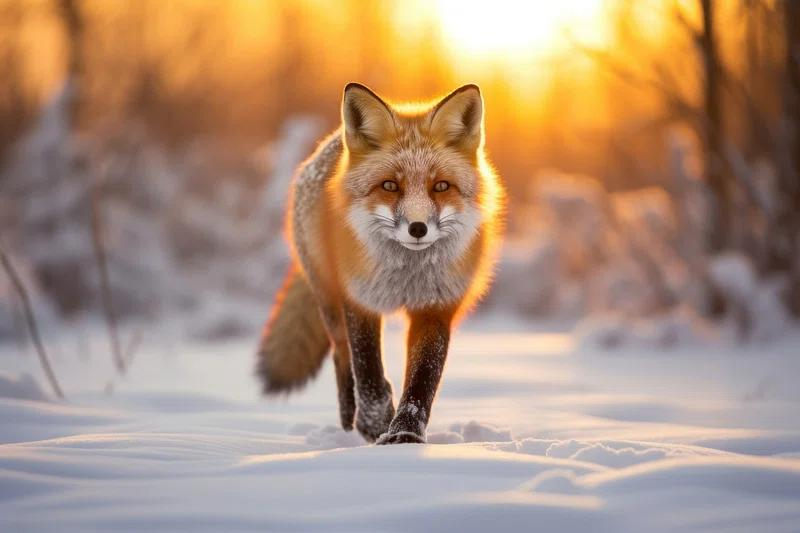fox: (254, 73, 511, 450)
